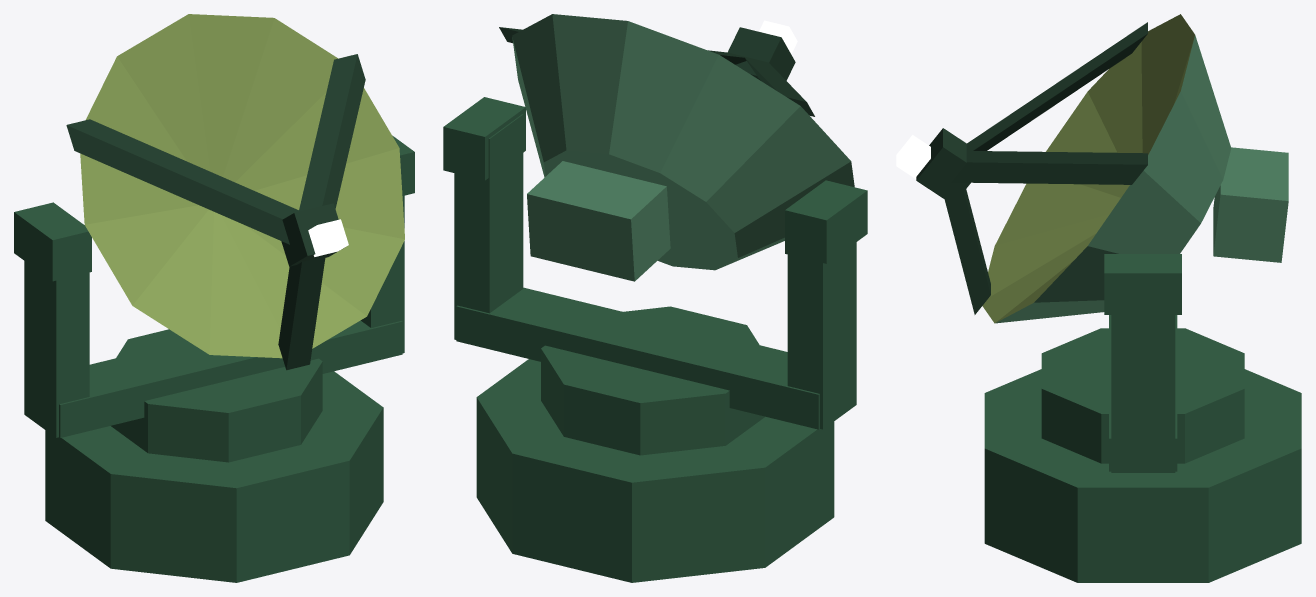
File: radar.glb
The picture shows the model from 3 angles, left to right: view 1: azimuth 30°, elevation 25°; view 2: azimuth 150°, elevation 25°; view 3: azimuth 270°, elevation 25°; orthographic projection. The views are drawn at different scales.
Parts seen in each view (by area): view 1: Dish, Pedestal, Head; view 2: Head, Dish, Pedestal; view 3: Dish, Pedestal, Head.
Part boxes in pixels (x1=…): Dish: x1=66, y1=14, x2=404, y2=370; Pedestal: x1=45, y1=371, x2=383, y2=582; Head: x1=14, y1=135, x2=414, y2=462; Head: x1=443, y1=97, x2=867, y2=455; Dish: x1=499, y1=14, x2=854, y2=281; Pedestal: x1=476, y1=359, x2=834, y2=582; Dish: x1=896, y1=14, x2=1288, y2=323; Pedestal: x1=984, y1=369, x2=1301, y2=582; Head: x1=1041, y1=254, x2=1244, y2=472.
Bounding box in the file's own units: 1.84 × 2.32 × 1.77.
